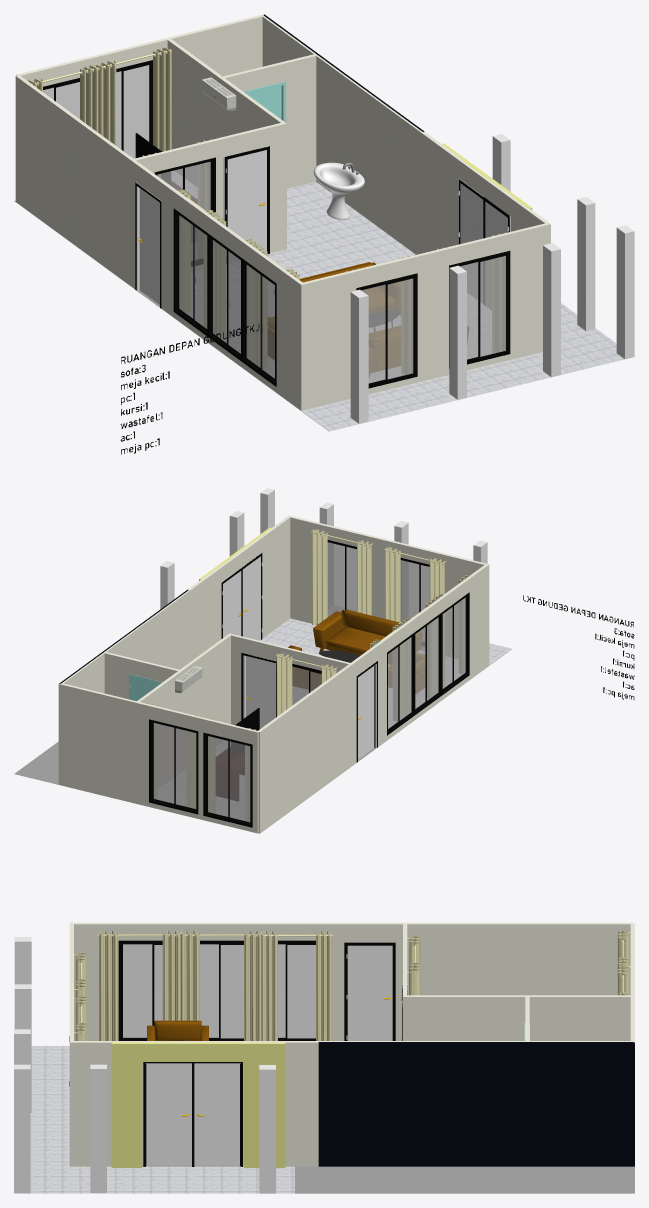
File: RUANG_DEPAN_GEDUNG_TKJ.glb
3 views of the same model, one above another, from view 1: azimuth 30°, elevation 25°; view 2: azimuth 150°, elevation 25°; view 3: azimuth 270°, elevation 25° (orthographic). The views are drawn at different scales.
Parts seen in each view (by area): view 1: Asset3DLoader.sceneRoot; view 2: Asset3DLoader.sceneRoot; view 3: Asset3DLoader.sceneRoot.
Part boxes in pixels (x1,y1,x2,y2): Asset3DLoader.sceneRoot: (14,14,634,454); Asset3DLoader.sceneRoot: (14,488,634,833); Asset3DLoader.sceneRoot: (14,922,634,1193).
Size of the model in its own units: 987 by 253 by 1107.
32 materials, 3 textured.
